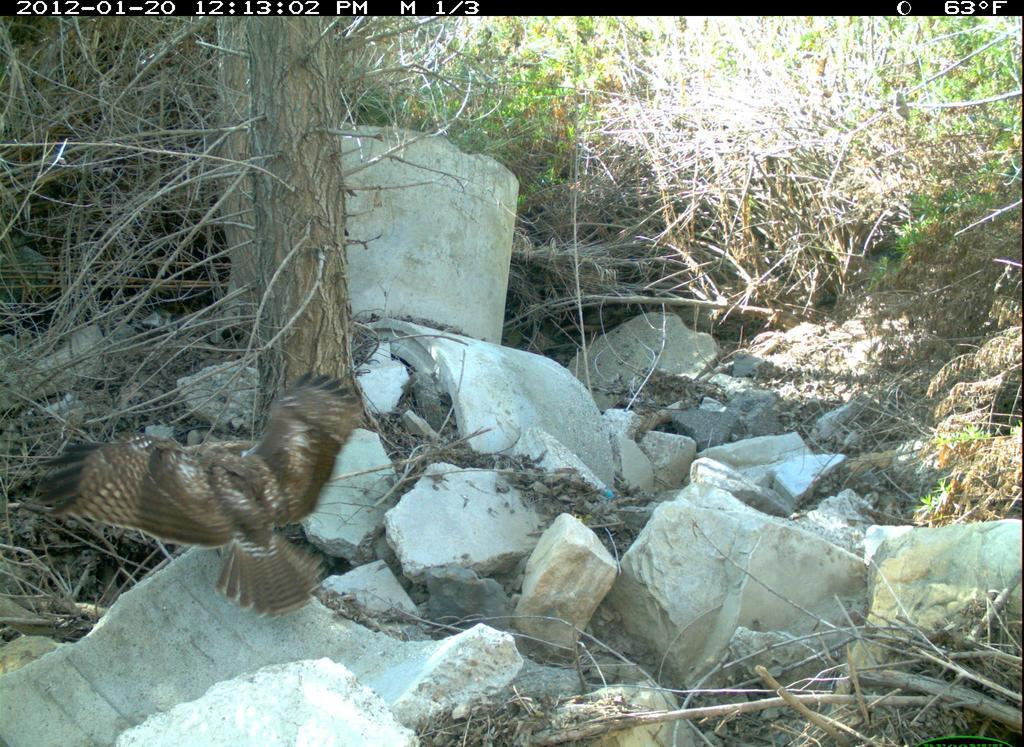bird: (17, 363, 369, 621)
